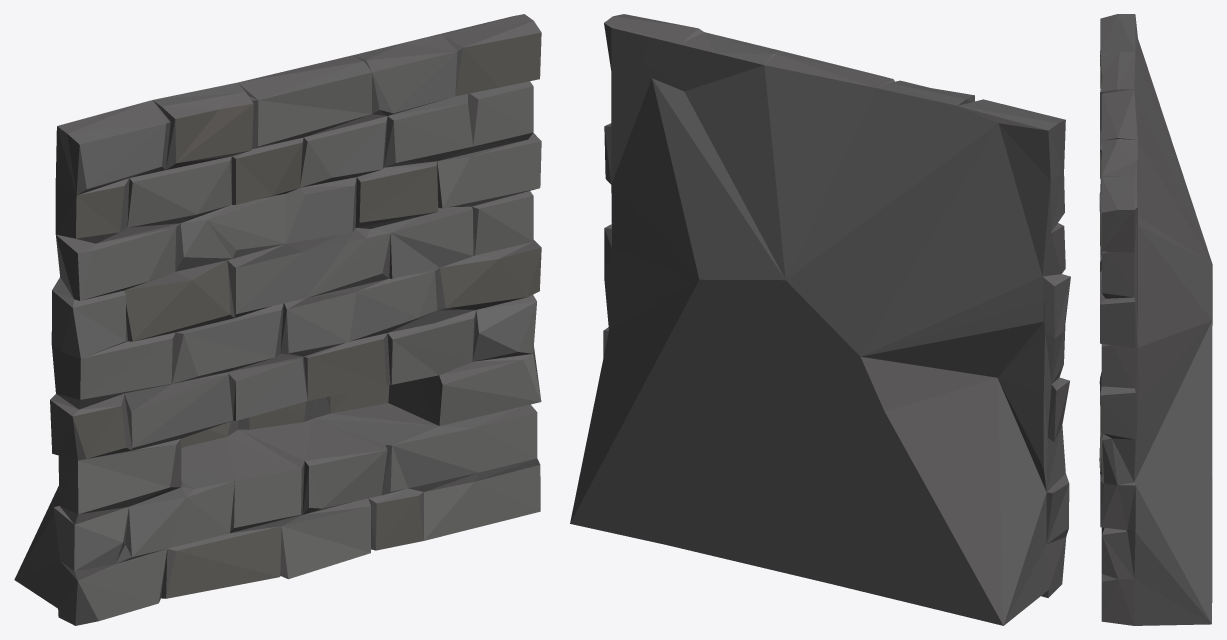
File: SM_Env_Wall_02.FBX
The picture shows the model from 3 angles, left to right: view 1: azimuth 30°, elevation 25°; view 2: azimuth 150°, elevation 25°; view 3: azimuth 270°, elevation 25°; orthographic projection. The views are drawn at different scales.
Visible parts, largest first — view 1: SM_Env_Wall_02; view 2: SM_Env_Wall_02; view 3: SM_Env_Wall_02.
Boxes of the visible parts, <box> form: SM_Env_Wall_02: <box>14,14,541,625</box>; SM_Env_Wall_02: <box>570,14,1070,625</box>; SM_Env_Wall_02: <box>1099,14,1212,625</box>.
Size of what is drawn, in the model's own units: 518 by 125 by 516.
